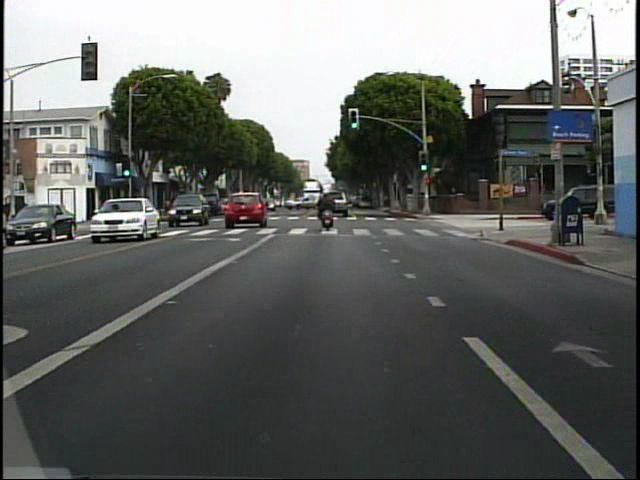person: (313, 186, 342, 236)
